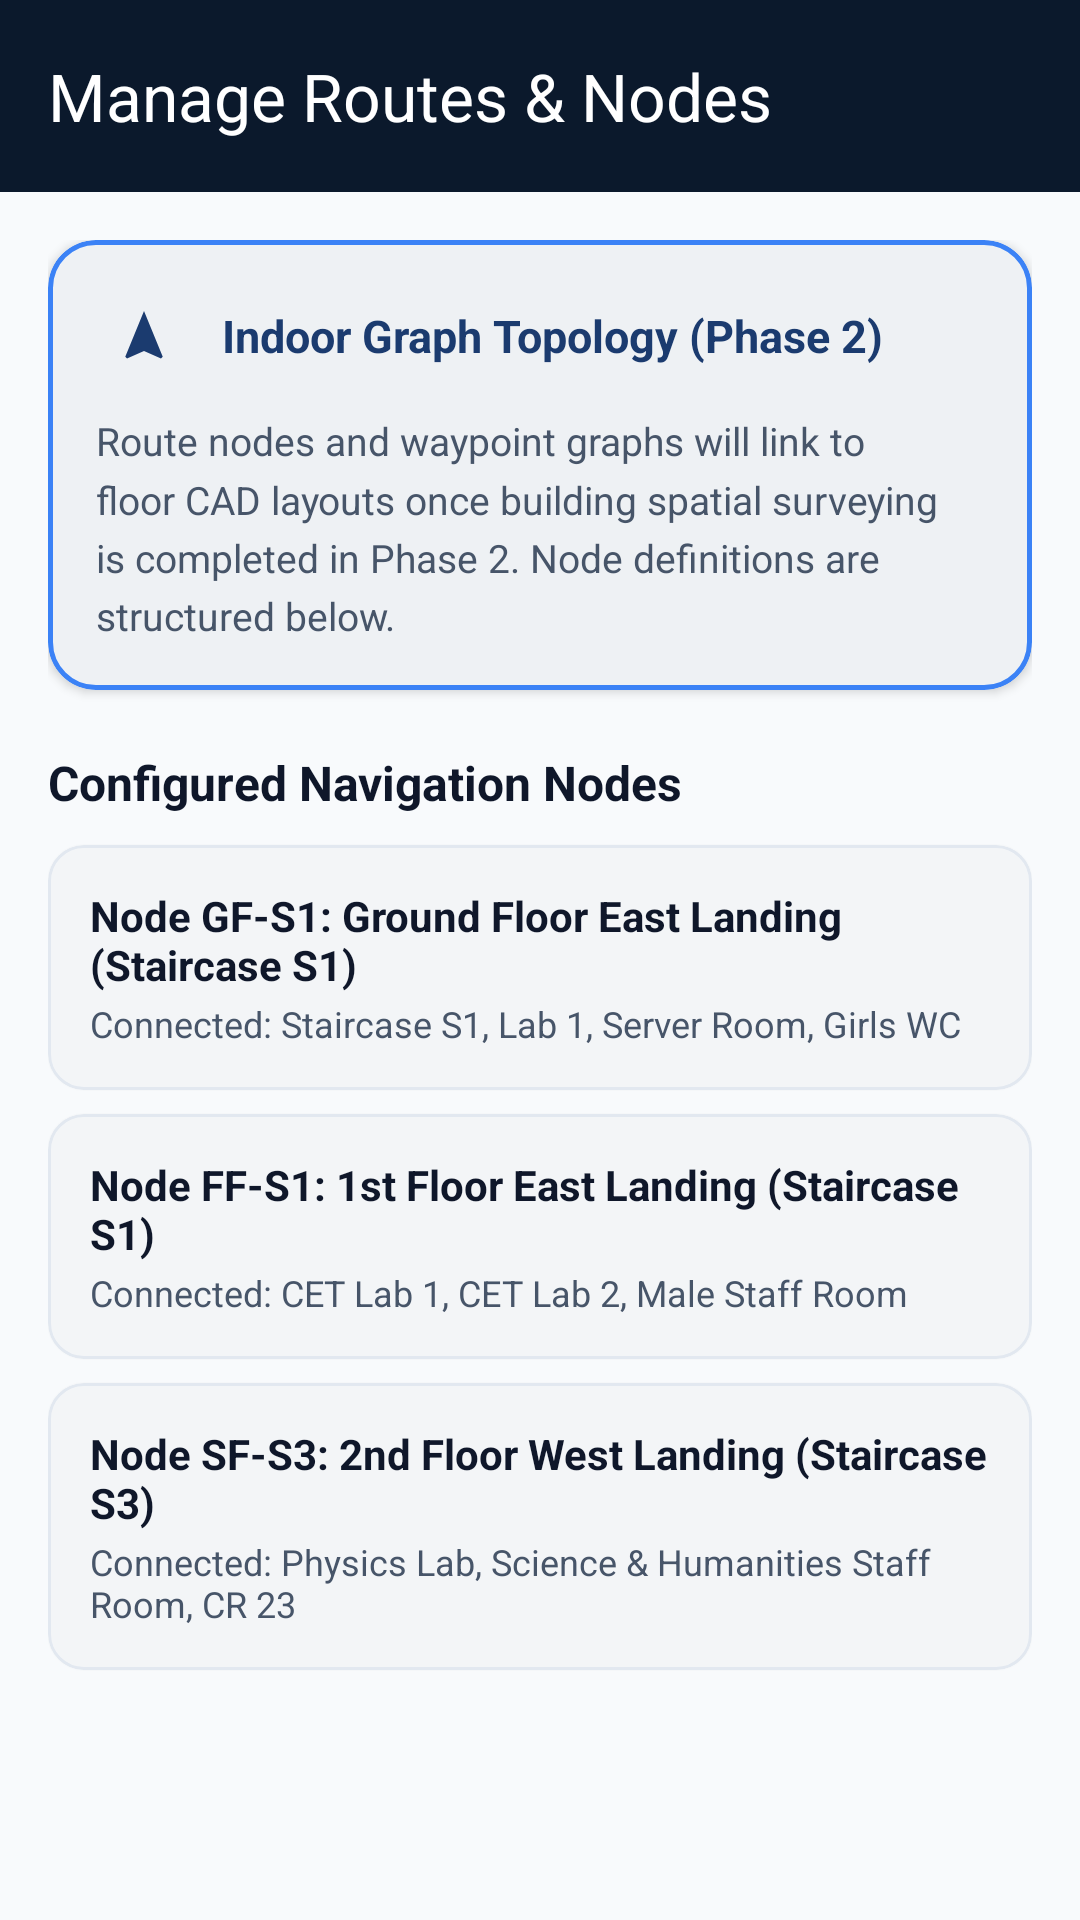

Screen size 1080px×1920px. Icon name, then its box in pixels as [x1,y1,x2,y2]:
navigation: [125,311,163,359]
